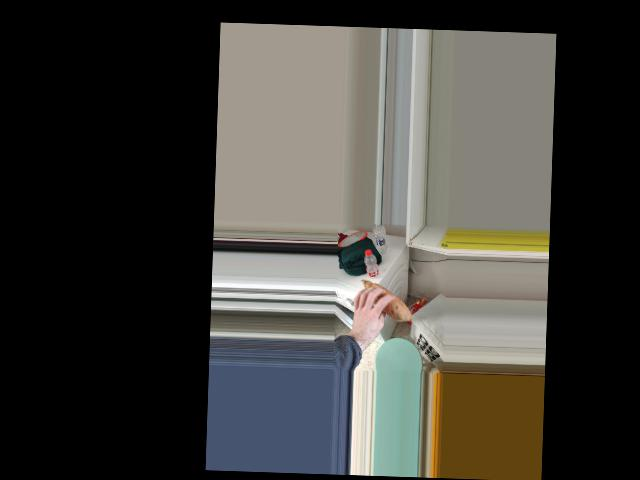sweet_potato: (355, 281, 409, 320)
